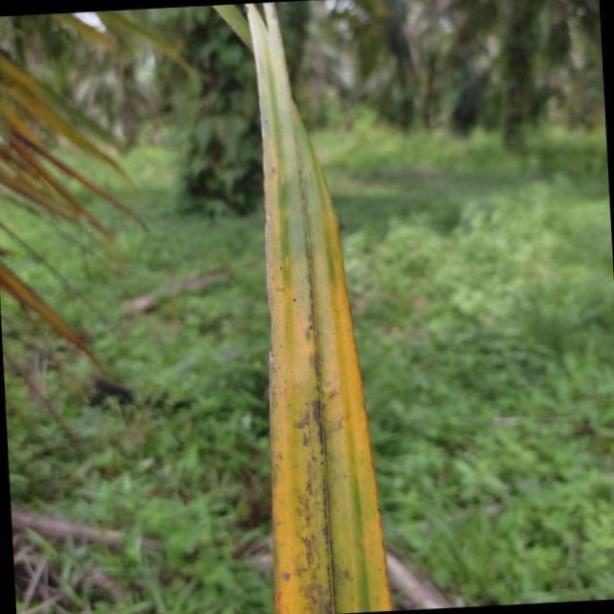Megnesium: (246, 1, 396, 614)
